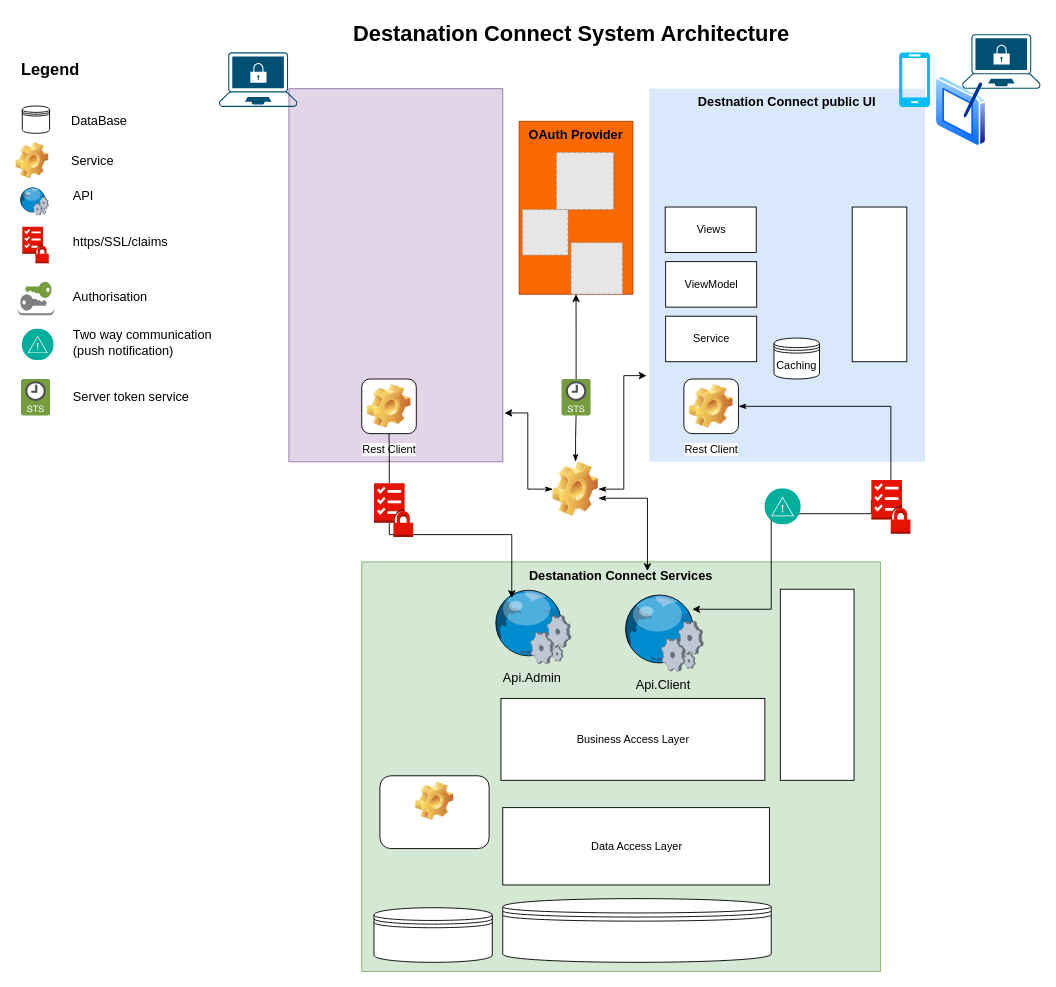
Image size: 1056x987. Some labels were removed from this diagram. Grey dashed boxes stand in for pictures. Here are the shapes that lost their labels. From the top down, the box of each, then its label:
(288, 88, 503, 462): Destanation Connect Admin UI
(851, 206, 907, 362): DI
(552, 461, 598, 516): OAuth
(779, 588, 854, 780): DTO
(379, 775, 489, 849): ETL
(373, 907, 492, 962): DestanationConnect ODS
(502, 898, 771, 962): DestaNationConnect
